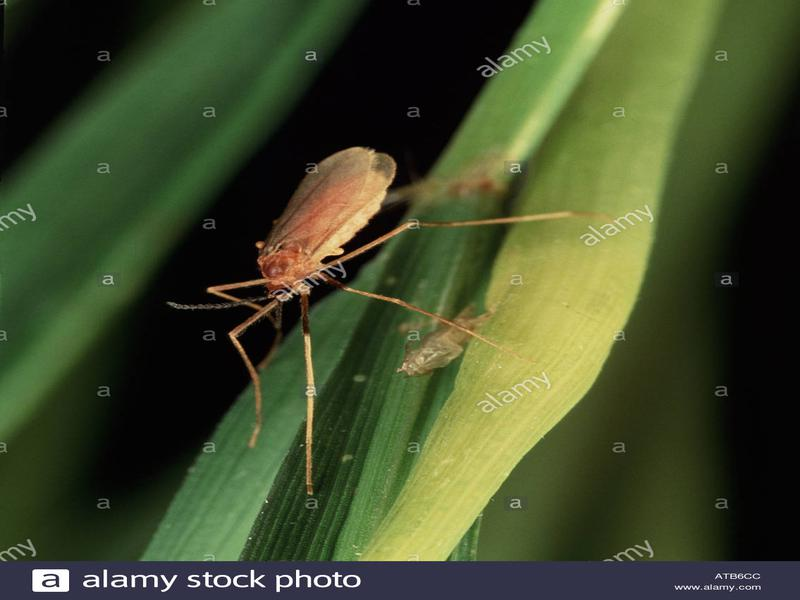Gall_midge: (216, 132, 423, 306), (385, 312, 497, 395)
